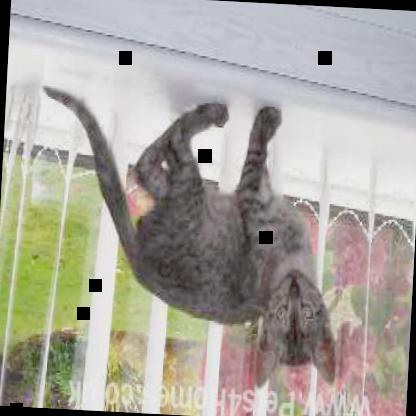cat: (27, 83, 348, 392)
